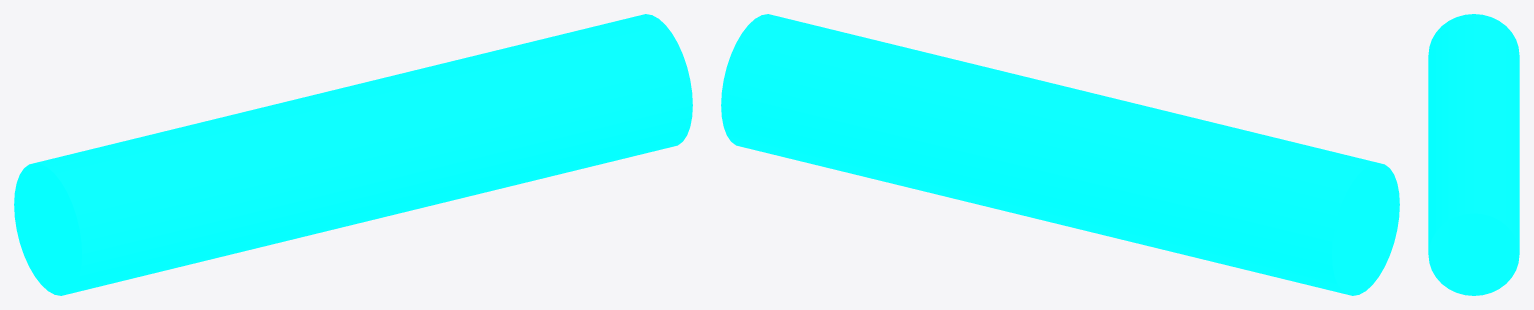
File: EyeBeam.fbx
The picture shows the model from 3 angles, left to right: view 1: azimuth 30°, elevation 25°; view 2: azimuth 150°, elevation 25°; view 3: azimuth 270°, elevation 25°; orthographic projection. The views are drawn at different scales.
Visible parts, largest first — view 1: Cylinder; view 2: Cylinder; view 3: Cylinder.
Part boxes in pixels (bbox=[...]): Cylinder: bbox=[14, 14, 692, 295]; Cylinder: bbox=[721, 14, 1399, 295]; Cylinder: bbox=[1428, 14, 1519, 295].
Bounding box in the file's own units: 54.3 × 10.48 × 10.48.
